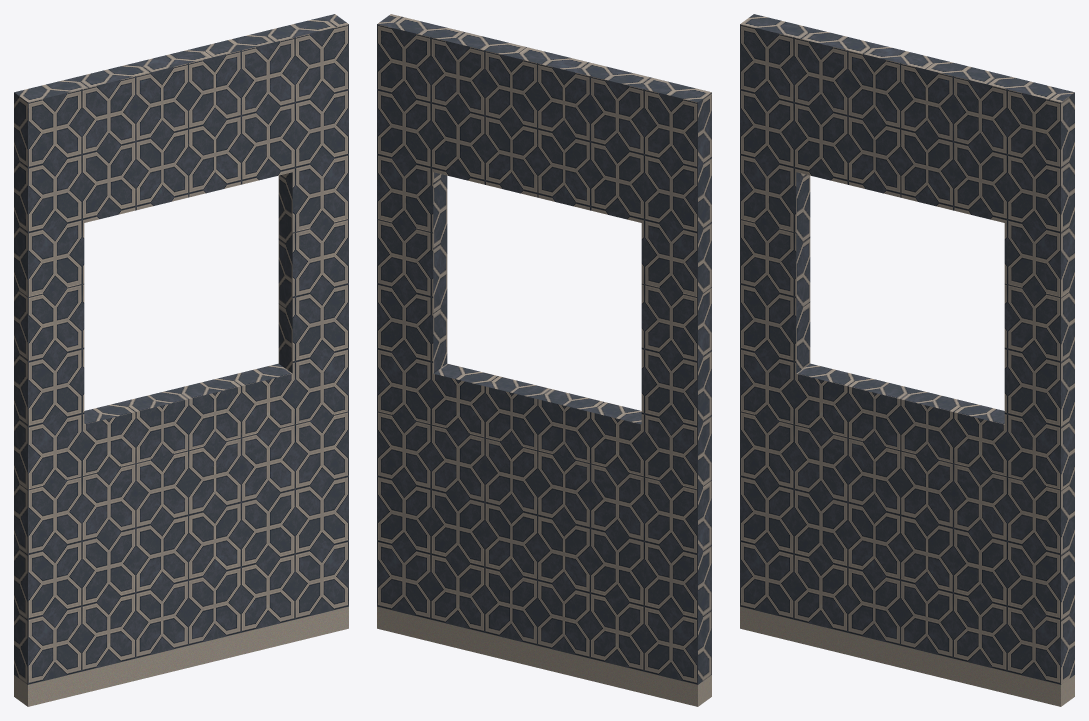
Rendered from ARC0210029.fbx.
The picture shows the model from 3 angles, left to right: view 1: azimuth 30°, elevation 25°; view 2: azimuth 150°, elevation 25°; view 3: azimuth 330°, elevation 25°; orthographic projection.
Parts seen in each view (by area): view 1: smARC0210029; view 2: smARC0210029; view 3: smARC0210029.
Boxes of the visible parts, <box> form: smARC0210029: <box>14,14,348,706</box>; smARC0210029: <box>377,14,711,706</box>; smARC0210029: <box>740,14,1074,706</box>.
Bounding box in the file's own units: 182 × 328 × 13.67.
Materials: 1 (1 with a texture image).
